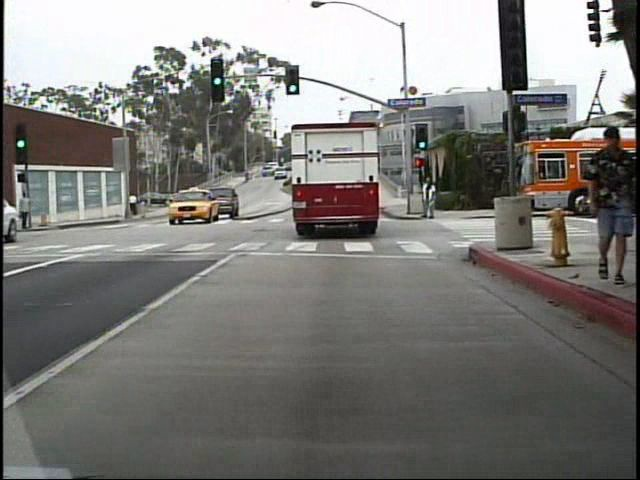person: (581, 123, 623, 290), (416, 176, 441, 221), (18, 189, 36, 232), (126, 187, 143, 220)
